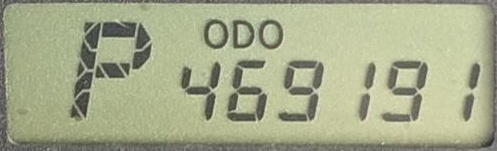1: (460, 61, 482, 123), (356, 60, 376, 122)
4: (179, 60, 221, 122)
6: (225, 58, 268, 123)
9: (276, 58, 324, 123), (380, 59, 428, 122)
X: (69, 19, 153, 120), (203, 18, 229, 49), (258, 19, 283, 49), (231, 19, 255, 49)
